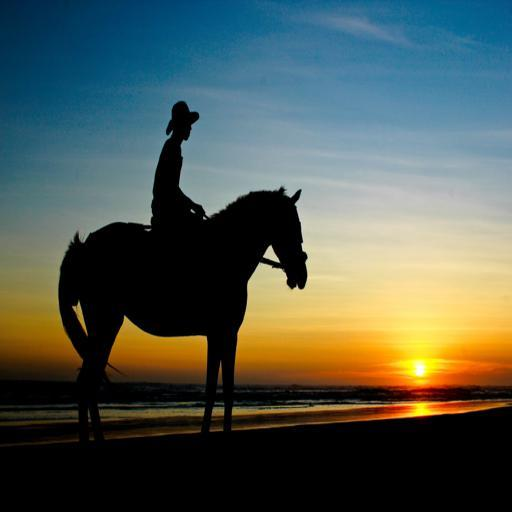Horse: (56, 182, 308, 447)
